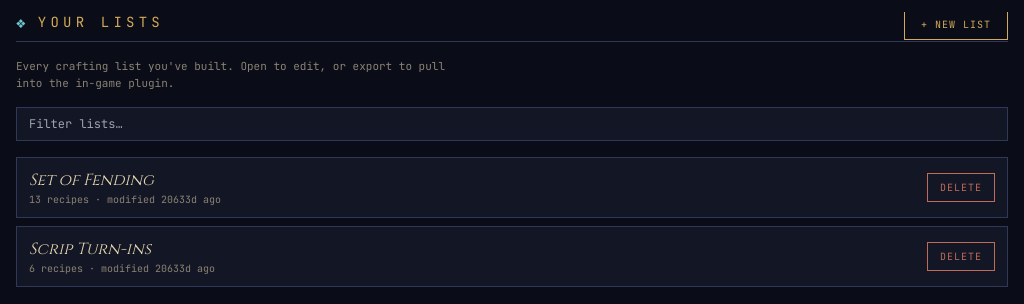
Test: YourLists › filters by name
This screenshot has width=1024, height=304.
Type "scrip" into the search field with placeholder "Filter lists…" at point(512, 124), box [16,107,1008,141]
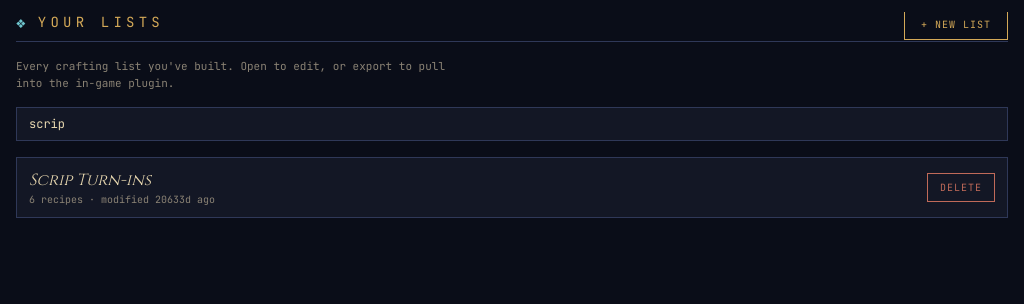
expect the text "Scrip Turn-ins" is shown: met, box [29,169,151,191]
expect the link "Set of Fending" is gone: met
